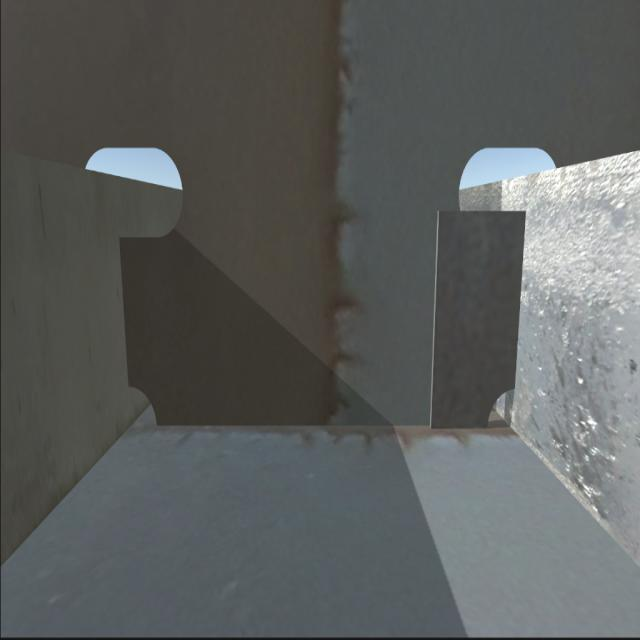fillet_hole: (486, 384, 520, 430), (129, 384, 161, 429)
fillet_yong_jeop_jang: (163, 419, 485, 433)
longi_yong_jeop_jang: (514, 207, 531, 386), (120, 240, 134, 385)
plate_CP01: (438, 206, 526, 422)
